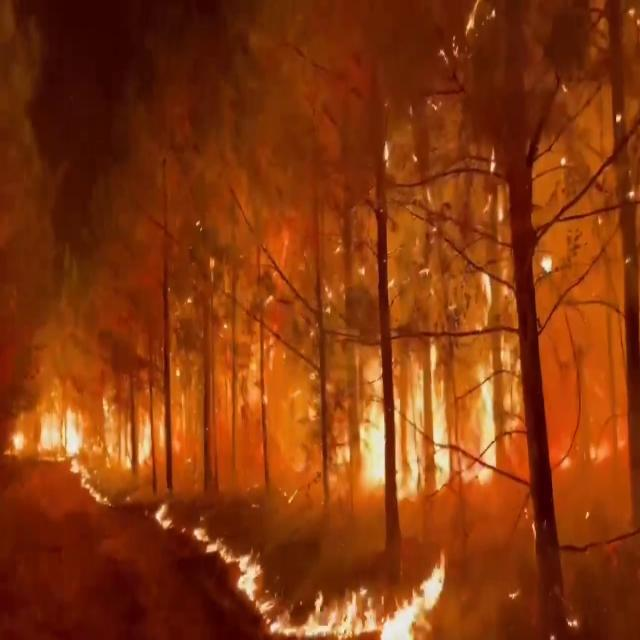Fire: (344, 352, 526, 492), (270, 548, 457, 640), (6, 381, 89, 474), (211, 532, 264, 612), (154, 498, 212, 556)
Smoke: (4, 0, 377, 383), (388, 0, 640, 332)
